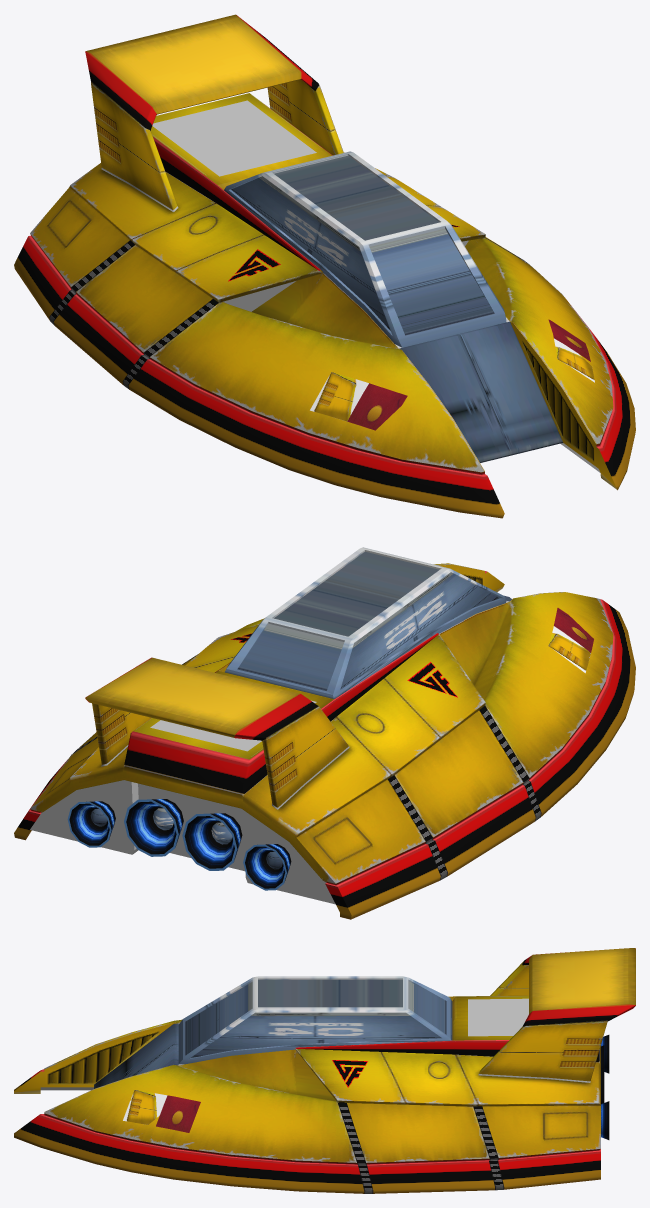
The model's file is goldenFox.obj.
3 renders of one model, top to bottom at view 1: azimuth 30°, elevation 25°; view 2: azimuth 150°, elevation 25°; view 3: azimuth 270°, elevation 25°, orthographic. The views are drawn at different scales.
Visible parts, largest first — view 1: 03_goldenfox_a_gxmat10.001, 03_goldenfox_a_gxmat26.002, 03_goldenfox_a_gxmat17.002, 03_goldenfox_a_gxmat22.002, 03_goldenfox_a_gxmat29.001, 03_goldenfox_a_gxmat19.001, 03_goldenfox_a_gxmat3, 03_goldenfox_a_gxmat5.001, 03_goldenfox_a_gxmat32.001, 03_goldenfox_a_gxmat31.001, 03_goldenfox_a_gxmat25.001, 03_goldenfox_a_gxmat13.002; view 2: 03_goldenfox_a_gxmat10.001, 03_goldenfox_a_gxmat26.002, 03_goldenfox_a_gxmat17.002, 03_goldenfox_a_gxmat22.002, 03_goldenfox_a_gxmat15.002, 03_goldenfox_a_gxmat1.002, 03_goldenfox_a_gxmat19.001, 03_goldenfox_a_gxmat3, 03_goldenfox_a_gxmat25.001, 03_goldenfox_a_gxmat14.001, 03_goldenfox_a_gxmat5.001, 03_goldenfox_a_gxmat32.001 (+2 smaller); view 3: 03_goldenfox_a_gxmat10.001, 03_goldenfox_a_gxmat26.002, 03_goldenfox_a_gxmat17.002, 03_goldenfox_a_gxmat22.002, 03_goldenfox_a_gxmat19.001, 03_goldenfox_a_gxmat3, 03_goldenfox_a_gxmat5.001, 03_goldenfox_a_gxmat29.001, 03_goldenfox_a_gxmat25.001, 03_goldenfox_a_gxmat31.001, 03_goldenfox_a_gxmat32.001, 03_goldenfox_a_gxmat15.002 (+1 smaller).
Part boxes in pixels (bbox=[...]): 03_goldenfox_a_gxmat10.001: bbox=[30, 93, 617, 489]; 03_goldenfox_a_gxmat26.002: bbox=[14, 105, 635, 518]; 03_goldenfox_a_gxmat17.002: bbox=[231, 155, 494, 335]; 03_goldenfox_a_gxmat22.002: bbox=[85, 14, 318, 130]; 03_goldenfox_a_gxmat29.001: bbox=[399, 321, 563, 462]; 03_goldenfox_a_gxmat19.001: bbox=[91, 79, 343, 209]; 03_goldenfox_a_gxmat3: bbox=[224, 151, 506, 347]; 03_goldenfox_a_gxmat5.001: bbox=[152, 100, 316, 176]; 03_goldenfox_a_gxmat32.001: bbox=[310, 338, 594, 421]; 03_goldenfox_a_gxmat31.001: bbox=[347, 319, 590, 430]; 03_goldenfox_a_gxmat25.001: bbox=[49, 237, 526, 389]; 03_goldenfox_a_gxmat13.002: bbox=[101, 168, 468, 311]; 03_goldenfox_a_gxmat10.001: bbox=[30, 563, 613, 883]; 03_goldenfox_a_gxmat26.002: bbox=[14, 571, 635, 919]; 03_goldenfox_a_gxmat17.002: bbox=[237, 551, 499, 690]; 03_goldenfox_a_gxmat22.002: bbox=[85, 657, 318, 740]; 03_goldenfox_a_gxmat15.002: bbox=[67, 799, 291, 890]; 03_goldenfox_a_gxmat1.002: bbox=[30, 780, 335, 904]; 03_goldenfox_a_gxmat19.001: bbox=[92, 703, 348, 807]; 03_goldenfox_a_gxmat3: bbox=[225, 547, 506, 699]; 03_goldenfox_a_gxmat25.001: bbox=[71, 654, 541, 880]; 03_goldenfox_a_gxmat14.001: bbox=[90, 808, 282, 869]; 03_goldenfox_a_gxmat5.001: bbox=[150, 700, 316, 751]; 03_goldenfox_a_gxmat32.001: bbox=[548, 626, 590, 673]; 03_goldenfox_a_gxmat10.001: bbox=[14, 995, 600, 1162]; 03_goldenfox_a_gxmat26.002: bbox=[14, 1040, 600, 1193]; 03_goldenfox_a_gxmat17.002: bbox=[185, 979, 446, 1057]; 03_goldenfox_a_gxmat22.002: bbox=[522, 948, 635, 1026]; 03_goldenfox_a_gxmat19.001: bbox=[479, 961, 607, 1081]; 03_goldenfox_a_gxmat3: bbox=[178, 976, 452, 1064]; 03_goldenfox_a_gxmat5.001: bbox=[468, 998, 528, 1036]; 03_goldenfox_a_gxmat29.001: bbox=[94, 1023, 178, 1088]; 03_goldenfox_a_gxmat25.001: bbox=[338, 1103, 504, 1193]; 03_goldenfox_a_gxmat31.001: bbox=[156, 1095, 200, 1132]; 03_goldenfox_a_gxmat32.001: bbox=[123, 1090, 167, 1124]; 03_goldenfox_a_gxmat15.002: bbox=[601, 1035, 609, 1139].
Size of the model in its own units: 2.54 by 1.06 by 4.26.
